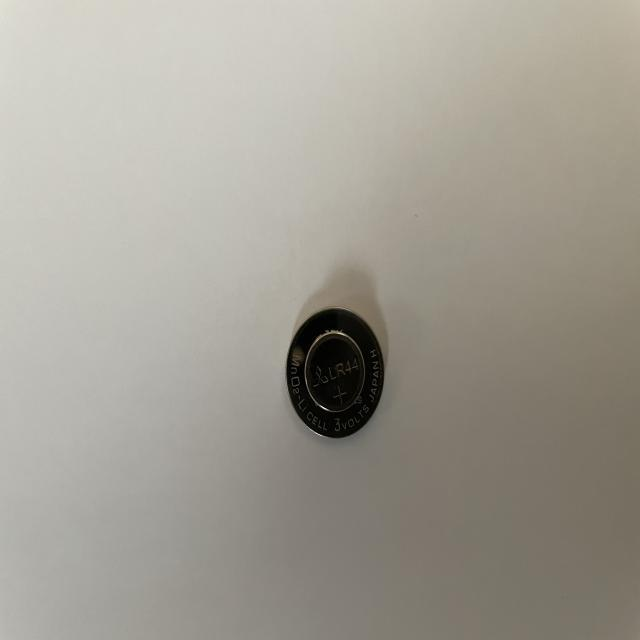COIN: (284, 306, 386, 441), (304, 332, 365, 416)
